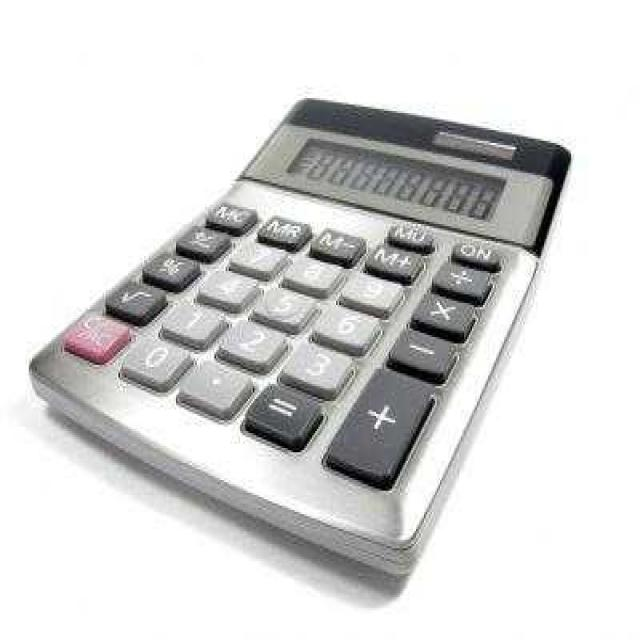Calculator: (27, 92, 573, 580)
